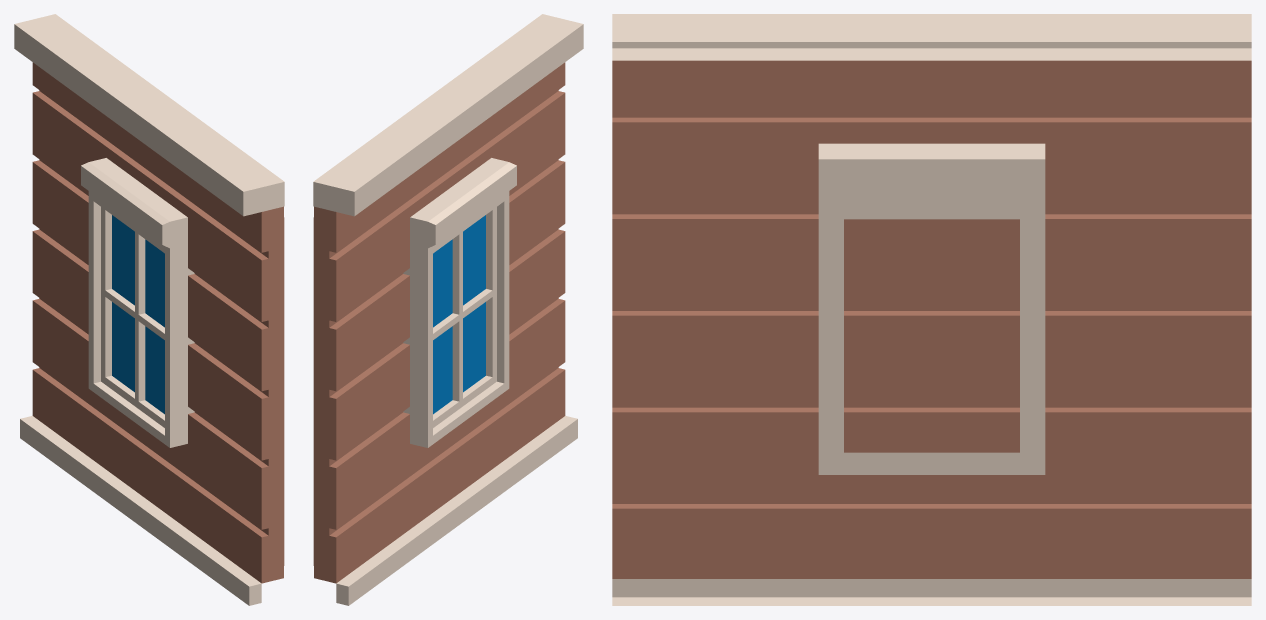
Rendered from O_V_F_Type5_Window.fbx.
3 renders of one model, left to right at view 1: azimuth 30°, elevation 25°; view 2: azimuth 150°, elevation 25°; view 3: azimuth 270°, elevation 25°, orthographic. The views are drawn at different scales.
Parts seen in each view (by area): view 1: Box019; view 2: Box019; view 3: Box019.
Part boxes in pixels (left/top/right/bottom): Box019: left=14, top=14, right=284, bottom=605; Box019: left=313, top=14, right=583, bottom=605; Box019: left=612, top=14, right=1251, bottom=605.
Bounding box in the file's own units: 0.3672 × 3 × 3.
